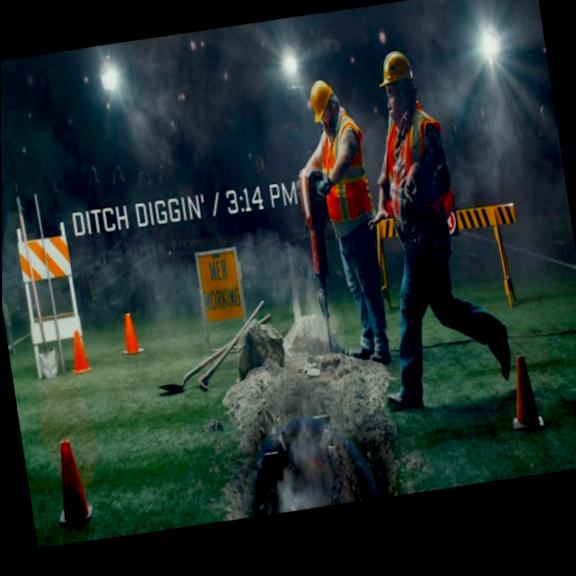no_safety_vest: (377, 96, 458, 249), (313, 114, 376, 235)
